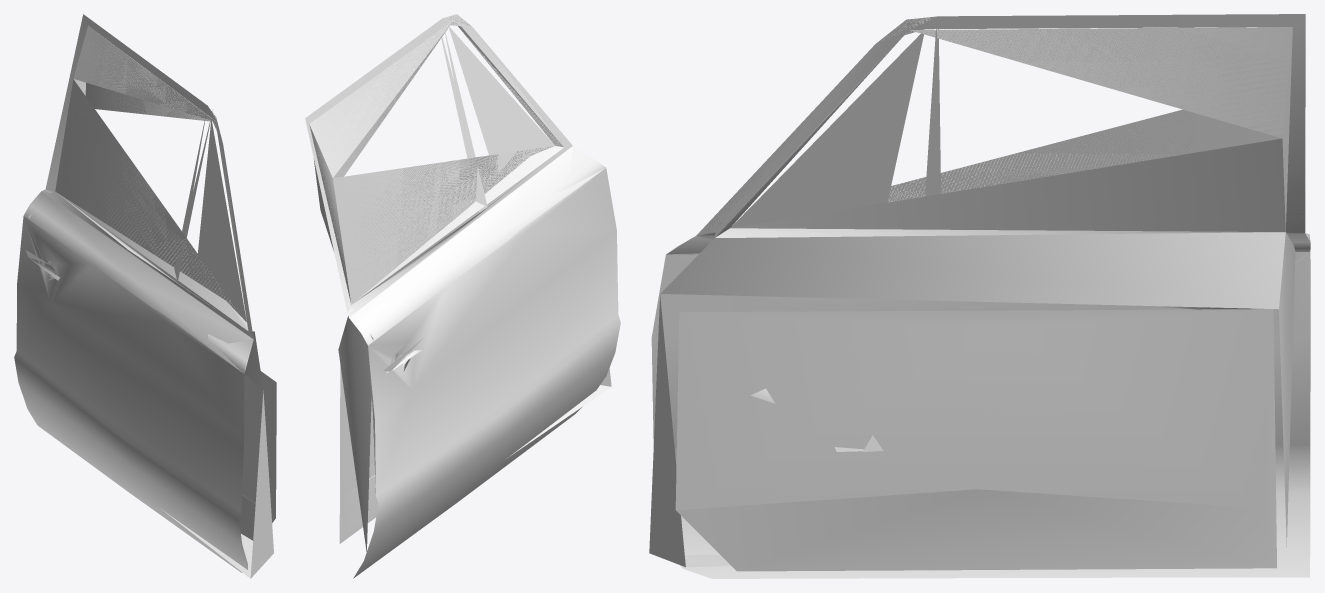
The picture shows the model from 3 angles, left to right: view 1: azimuth 30°, elevation 25°; view 2: azimuth 150°, elevation 25°; view 3: azimuth 270°, elevation 25°; orthographic projection. The views are drawn at different scales.
Size of the model in its own units: 0.1872 by 0.9484 by 0.9539.
1 material, 1 textured.
